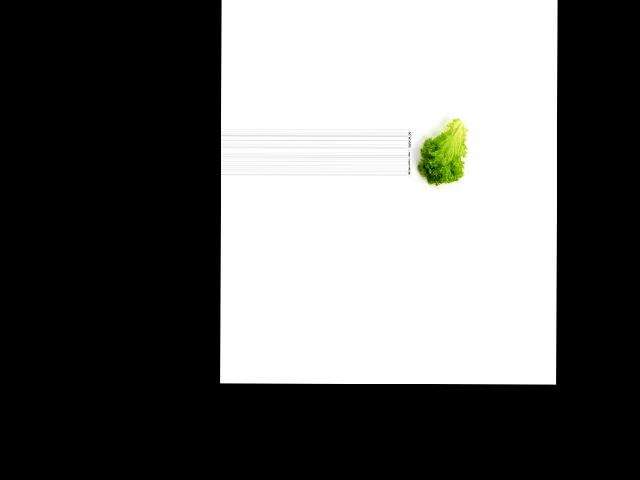lettuce: (417, 119, 469, 188)
